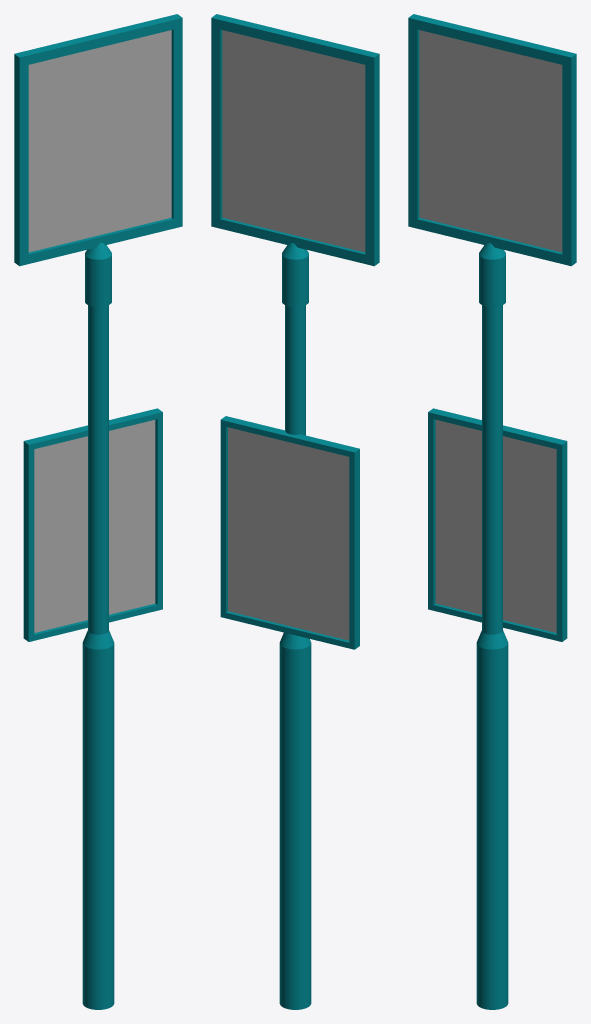
File: nl_bus_sign_front.obj
3 views of the same model, side by side, from view 1: azimuth 30°, elevation 25°; view 2: azimuth 150°, elevation 25°; view 3: azimuth 330°, elevation 25° (orthographic).
Parts seen in each view (by area): view 1: cuboid, cylinder, cone; view 2: cuboid, cylinder, cone; view 3: cuboid, cylinder, cone.
Boxes of the visible parts, x1=… form: cuboid: x1=14, y1=14, x2=182, y2=641; cylinder: x1=82, y1=255, x2=114, y2=1009; cone: x1=82, y1=235, x2=114, y2=649; cuboid: x1=211, y1=14, x2=379, y2=649; cylinder: x1=279, y1=255, x2=311, y2=1009; cone: x1=279, y1=235, x2=311, y2=649; cuboid: x1=408, y1=14, x2=576, y2=641; cylinder: x1=476, y1=255, x2=508, y2=1009; cone: x1=476, y1=235, x2=508, y2=649.
Size of the model in its own units: 0.5625 by 3.19 by 0.0938.
1 material, 1 textured.
